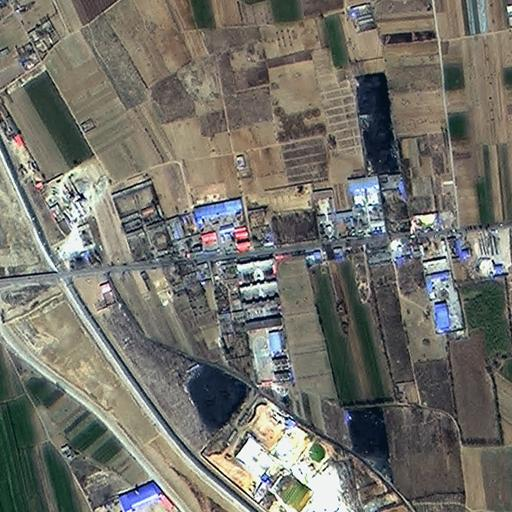school: (236, 256, 289, 389)
